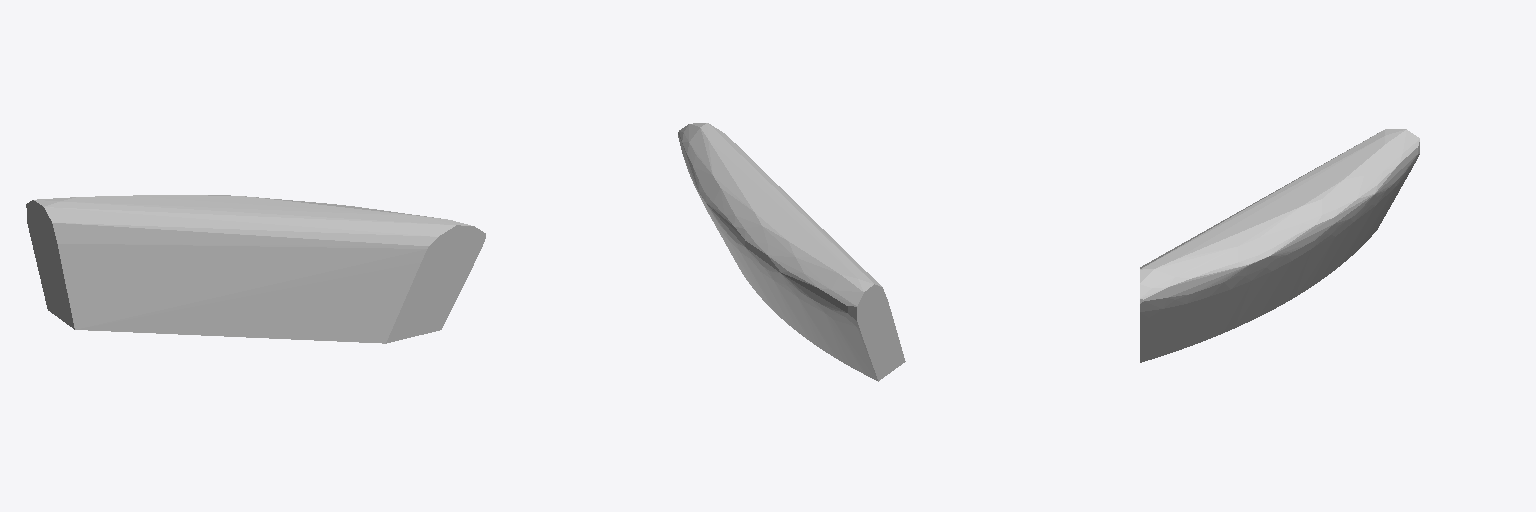
Rendered from skillet_collision_1.obj.
3 views of the same model, side by side, from view 1: azimuth 30°, elevation 25°; view 2: azimuth 150°, elevation 25°; view 3: azimuth 270°, elevation 25° (orthographic).
Size of the model in its own units: 0.0565 by 0.0172 by 0.043.